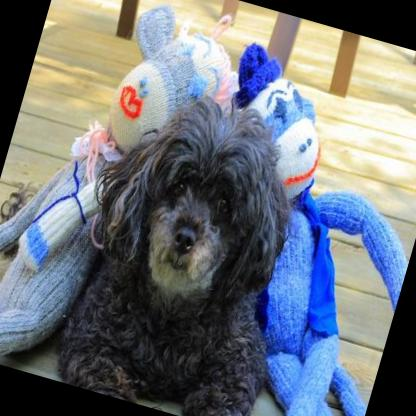toy_poodle: (41, 70, 336, 416)
